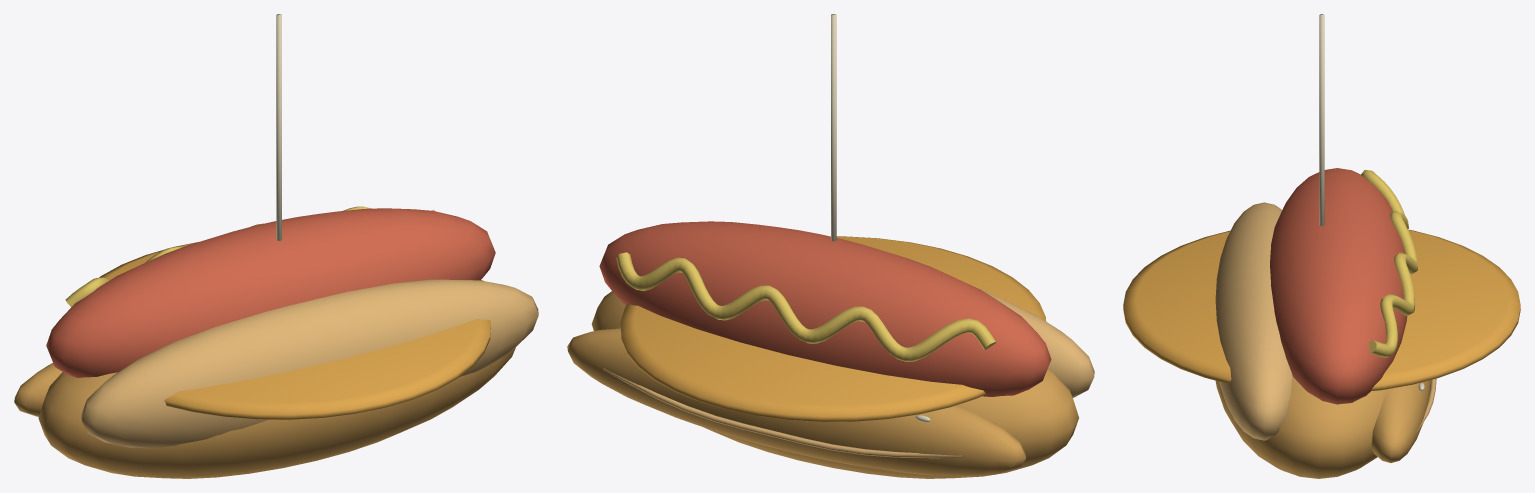
File: hotdog.glb
3 views of the same model, side by side, from view 1: azimuth 30°, elevation 25°; view 2: azimuth 150°, elevation 25°; view 3: azimuth 270°, elevation 25° (orthographic). The views are drawn at different scales.
Parts seen in each view (by area): view 1: hotdog.Moving.vinyl, hotdog.Static.vinyl, hotdog.Tether.vinyl; view 2: hotdog.Moving.vinyl, hotdog.Static.vinyl, hotdog.Tether.vinyl; view 3: hotdog.Moving.vinyl, hotdog.Static.vinyl, hotdog.Tether.vinyl.
Part boxes in pixels (x1=…): hotdog.Moving.vinyl: x1=14, y1=206, x2=538, y2=478; hotdog.Static.vinyl: x1=99, y1=242, x2=490, y2=419; hotdog.Tether.vinyl: x1=276, y1=14, x2=281, y2=240; hotdog.Moving.vinyl: x1=567, y1=221, x2=1094, y2=478; hotdog.Static.vinyl: x1=620, y1=236, x2=1045, y2=421; hotdog.Tether.vinyl: x1=831, y1=14, x2=836, y2=241; hotdog.Moving.vinyl: x1=1215, y1=168, x2=1436, y2=478; hotdog.Static.vinyl: x1=1123, y1=229, x2=1520, y2=391; hotdog.Tether.vinyl: x1=1319, y1=14, x2=1324, y2=225.
Size of the model in its own units: 15.9 by 14.05 by 12.4.
